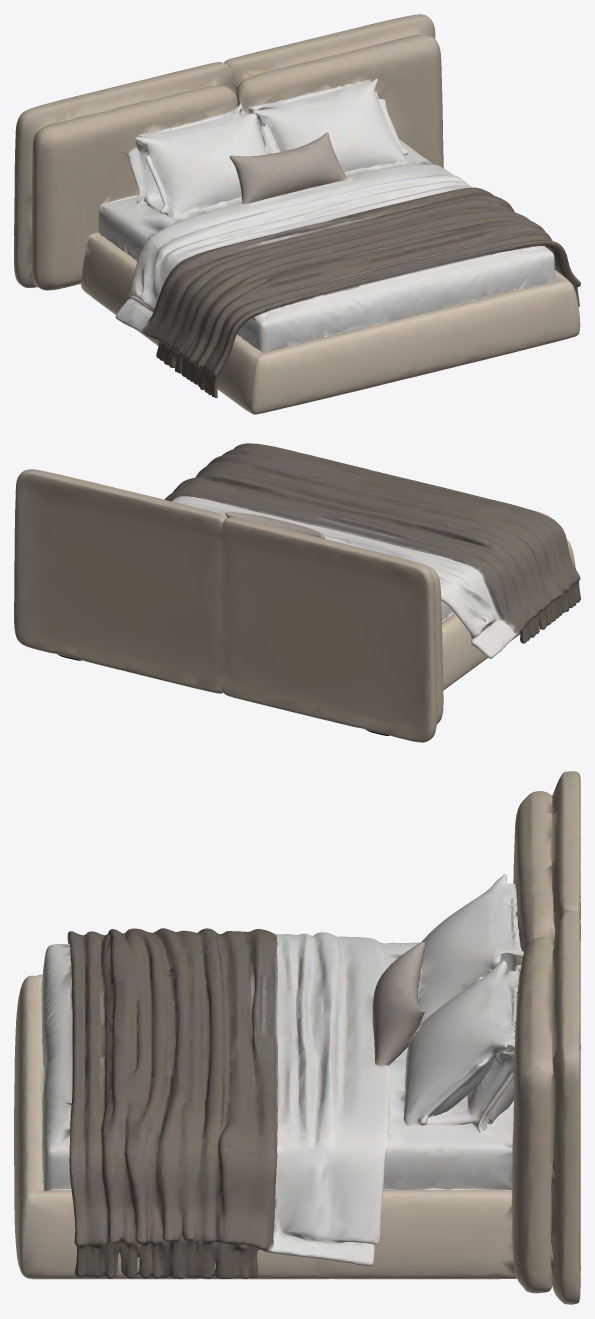
The model's file is fm_bed_beige.glb.
The picture shows the model from 3 angles, top to bottom: view 1: azimuth 30°, elevation 25°; view 2: azimuth 150°, elevation 25°; view 3: azimuth 270°, elevation 25°; orthographic projection. The views are drawn at different scales.
Parts seen in each view (by area): view 1: geometry_0; view 2: geometry_0; view 3: geometry_0.
Boxes of the visible parts, box(x1,y1,x2,y2) form: geometry_0: box(14, 14, 580, 414); geometry_0: box(14, 443, 580, 742); geometry_0: box(14, 771, 580, 1304).
Bounding box in the file's own units: 1 × 0.4106 × 0.8093.
1 material, 1 textured.
